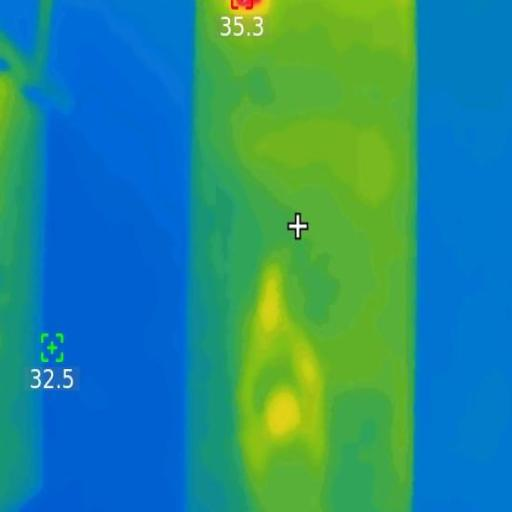hotspot: (231, 0, 261, 19)
